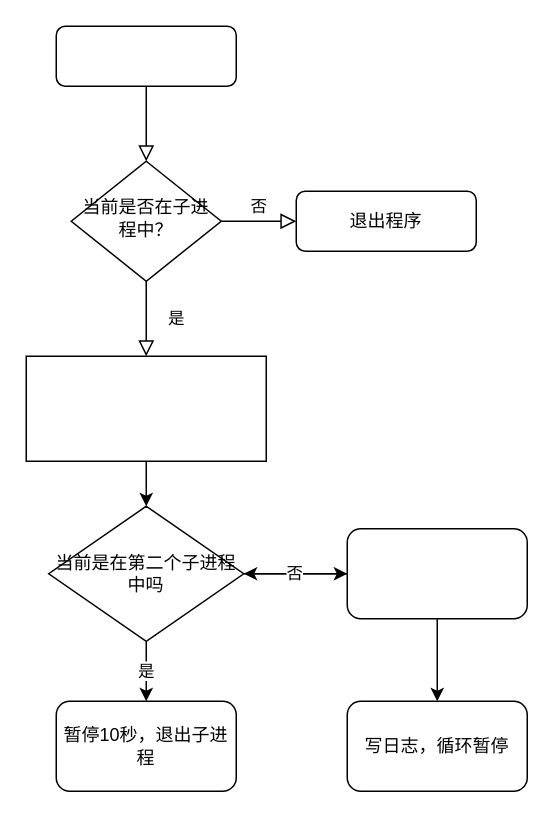
Some shapes in this 554 by 818 pixel diagram are drawn without their labels. Each missing label, with the centre of its shape:
关闭已经打开的文件描述符， 修改/dev/null文件， 打开并写日志， 创建子进程: point 145,408
设置掩码， 创建子进程: point 145,55
阻塞等待子进程结束: point 436,573
